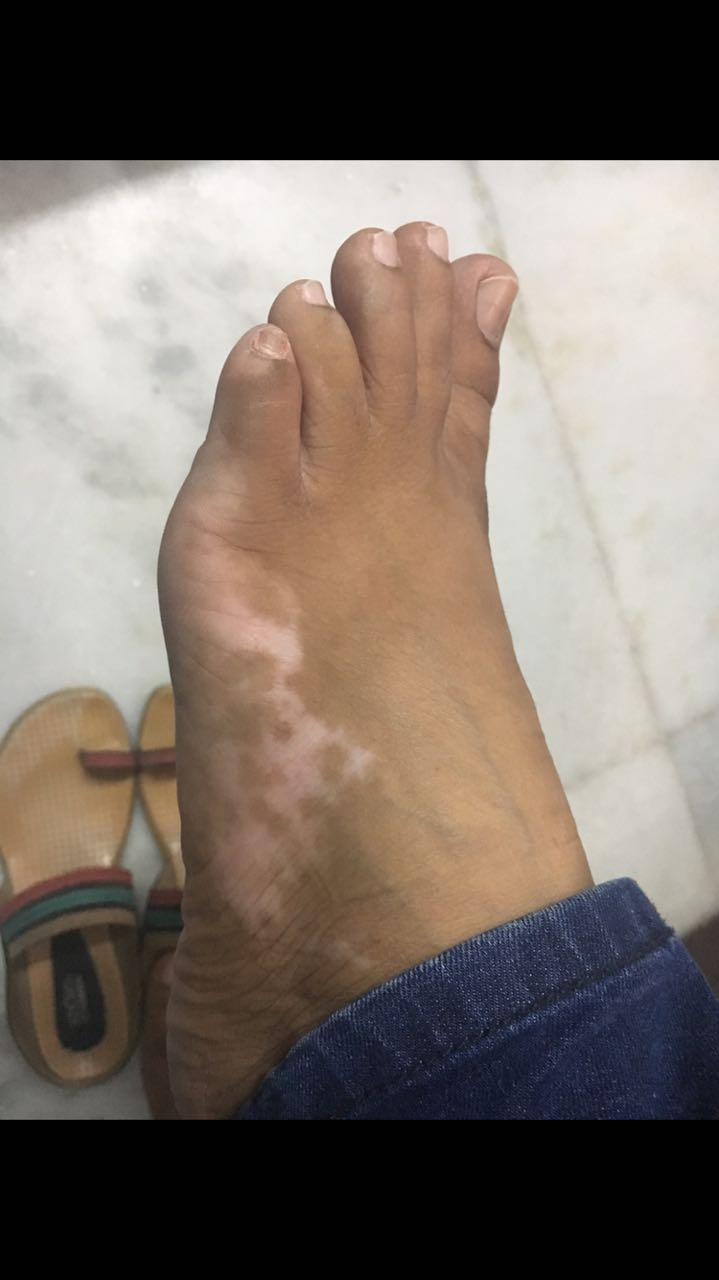vitiligo: (157, 477, 444, 938)
